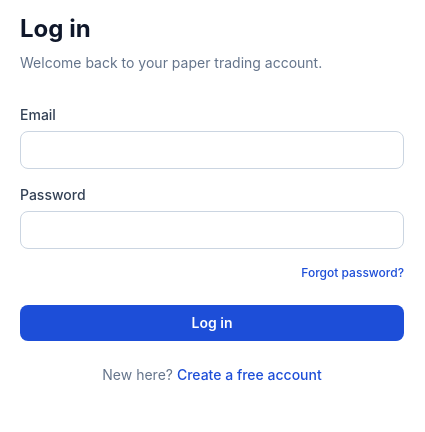
Test case: Login page › submits credentials and shows a server-provided error on failure
The image size is (425, 432).
Type "user@example.com" into the field labelled "Email" at (212, 150), box 20,131 -> 404,169
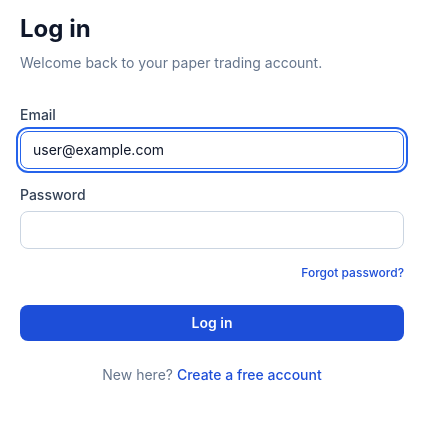
Type "wrong-password" into the password field labelled "Password" at (212, 230), box 20,211 -> 404,249
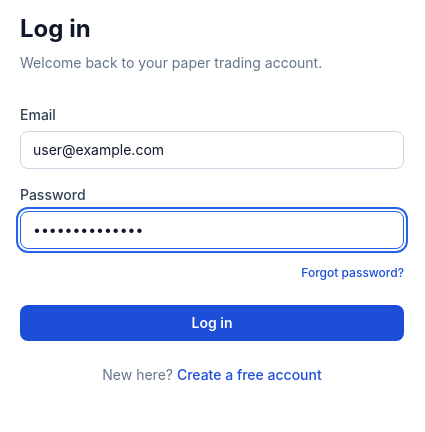
Click the button "Log in" at (212, 323), box 20,305 -> 404,341
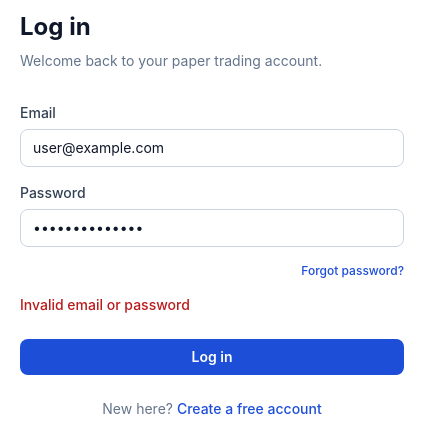
Check: the message reads "Invalid email or password", box 20,296 -> 190,313
